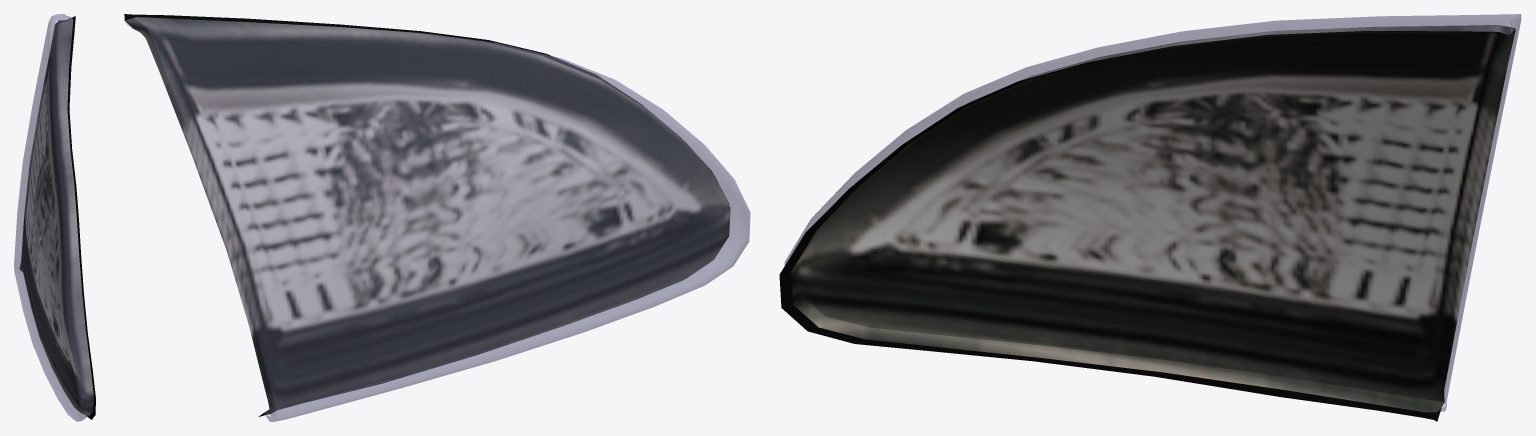
The picture shows the model from 3 angles, left to right: view 1: azimuth 30°, elevation 25°; view 2: azimuth 150°, elevation 25°; view 3: azimuth 270°, elevation 25°; orthographic projection. The views are drawn at different scales.
Visible parts, largest first — view 1: D162_541D_L_D162_541D_L_2_DTaSI, D162_541D_L_1_N_D162_541D_L, D162_541D_L_D162_541D_L_3_D; view 2: D162_541D_L_D162_541D_L_2_DTaSI, D162_541D_L_1_N_D162_541D_L, D162_541D_L_D162_541D_L_3_D; view 3: D162_541D_L_1_N_D162_541D_L, D162_541D_L_D162_541D_L_2_DTaSI, D162_541D_L_D162_541D_L_3_D.
Part boxes in pixels (x1,y1,x2,y2): D162_541D_L_D162_541D_L_2_DTaSI: (14, 14, 93, 421); D162_541D_L_1_N_D162_541D_L: (19, 18, 93, 415); D162_541D_L_D162_541D_L_3_D: (67, 16, 95, 419); D162_541D_L_D162_541D_L_2_DTaSI: (125, 17, 750, 421); D162_541D_L_1_N_D162_541D_L: (125, 17, 730, 414); D162_541D_L_D162_541D_L_3_D: (124, 14, 728, 416); D162_541D_L_1_N_D162_541D_L: (791, 25, 1515, 412); D162_541D_L_D162_541D_L_2_DTaSI: (784, 14, 1521, 411); D162_541D_L_D162_541D_L_3_D: (779, 31, 1504, 421).
Size of the model in its own units: 14.88 by 18.9 by 27.34.
